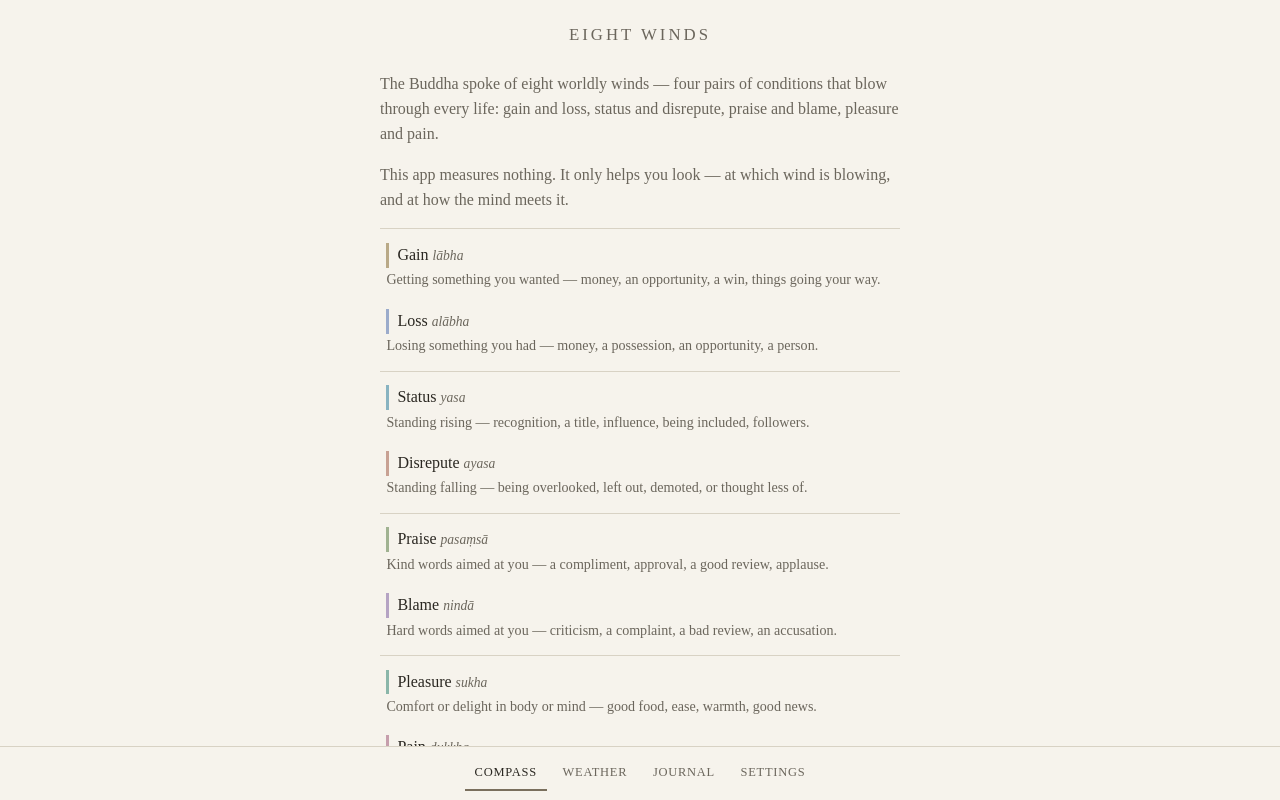
Scenario: first run › can log a first wind straight from the intro guide
Click the button "Kind words aimed at you": (640, 552) [380,522,900,581]
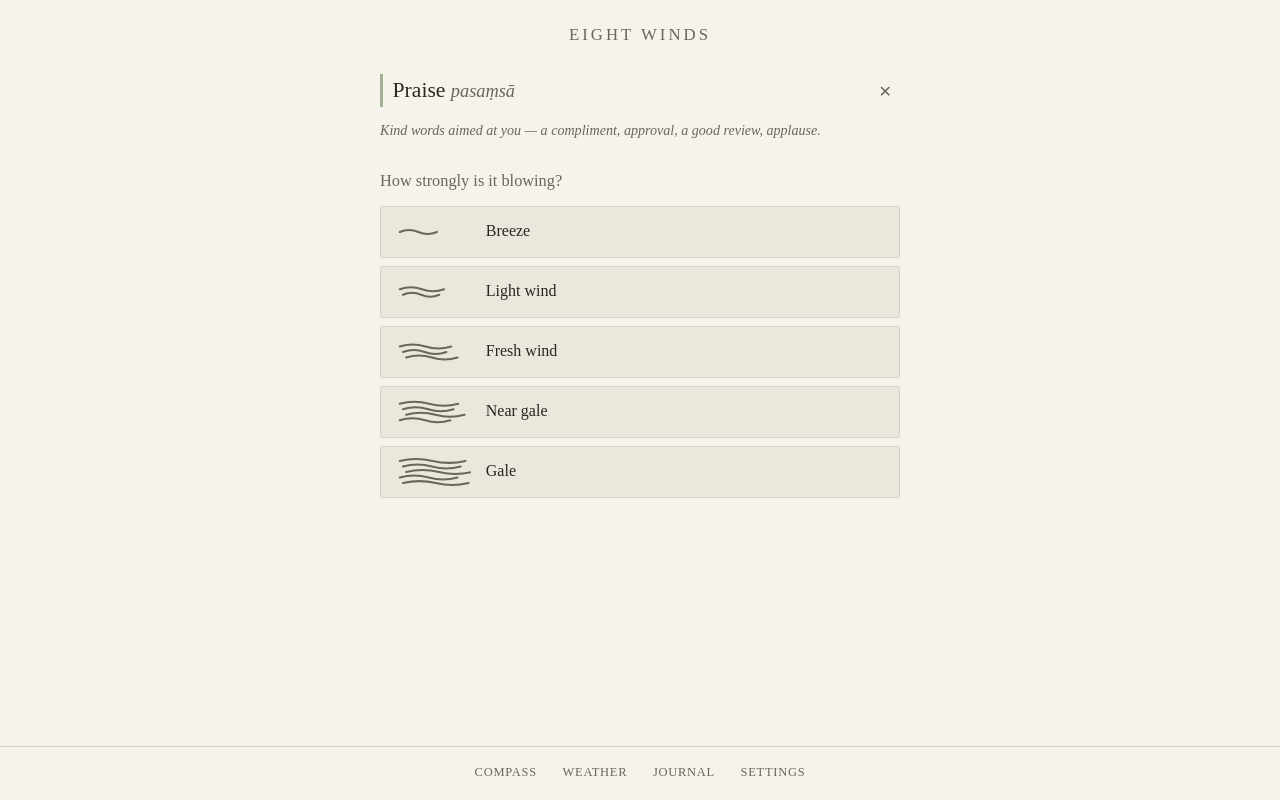
Expected: the heading "How strongly is it blowing?" is shown, [380,171,562,190]
